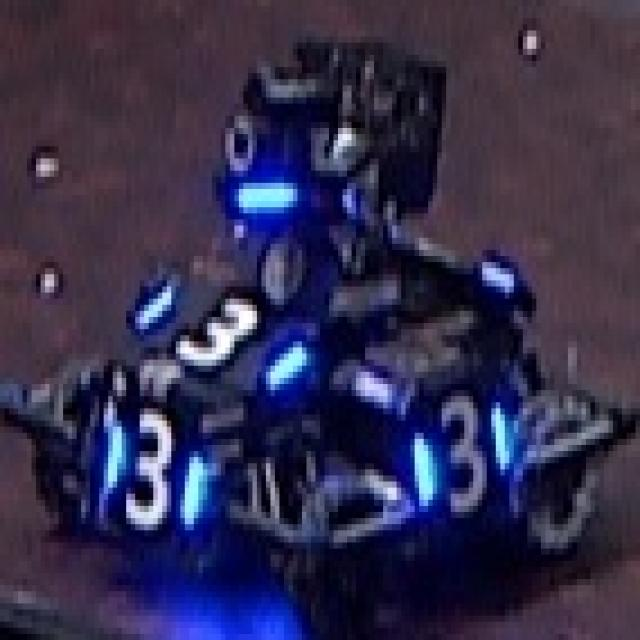B3: (135, 268, 307, 390), (406, 384, 514, 518), (104, 408, 212, 536)
